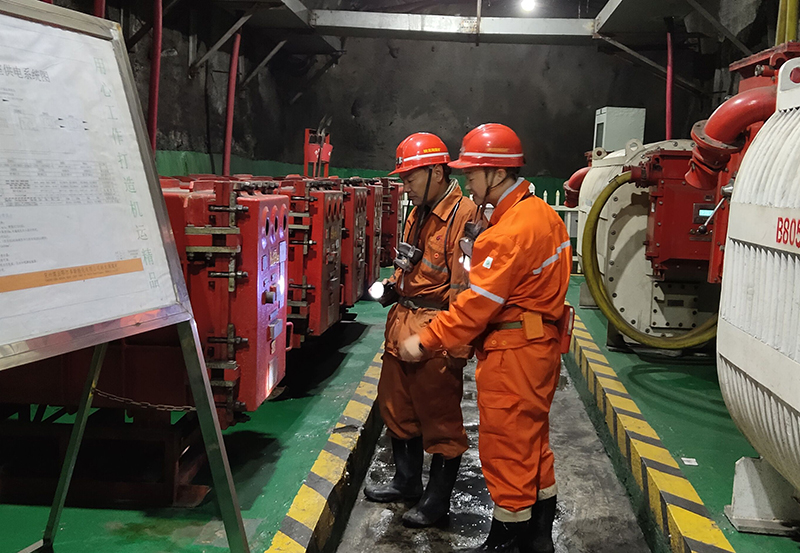helmet: (447, 117, 531, 203), (386, 130, 457, 207)
